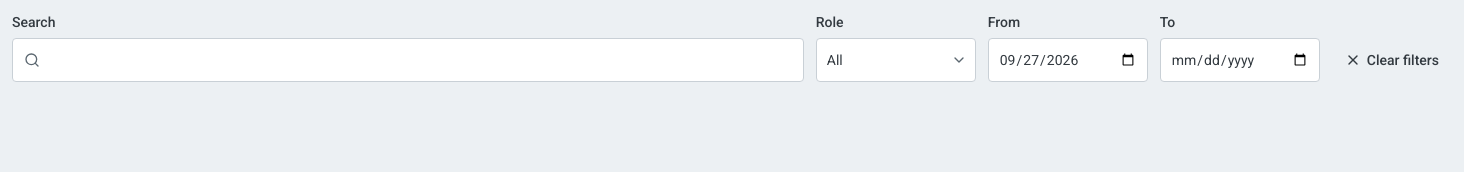
it: DataTableToolbar › date filters › counts dates as filters, and Clear resets them
Click the button "Clear filters" at (1392, 60), box [1332,38,1452,82]
Wait 600 ms
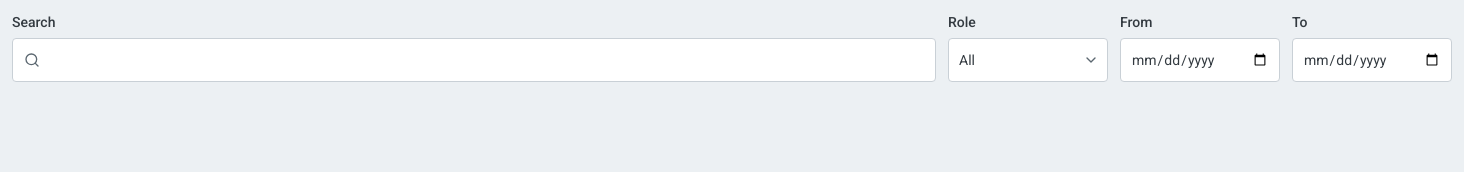
Check: the date field labelled "From" is empty, box [1120,38,1280,82]
Check: the button "Clear filters" is gone
